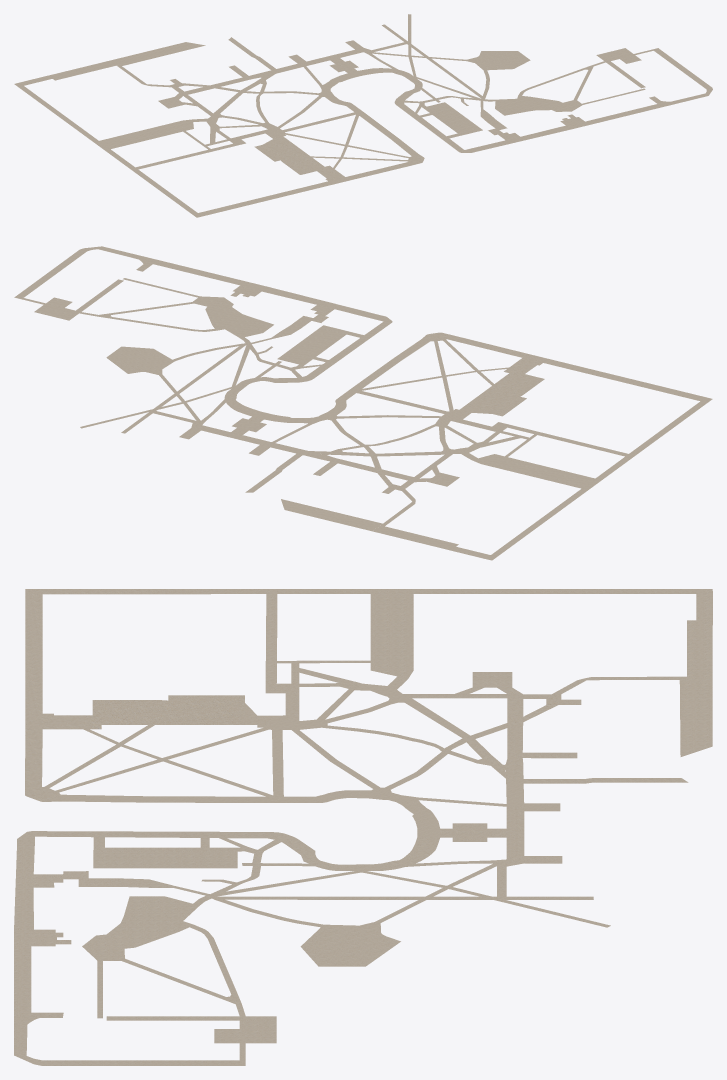
Rendered from SidewalksV7.gltf.
3 views of the same model, one above another, from view 1: azimuth 30°, elevation 25°; view 2: azimuth 150°, elevation 25°; view 3: azimuth 270°, elevation 25° (orthographic). The views are drawn at different scales.
Parts seen in each view (by area): view 1: Plane; view 2: Plane; view 3: Plane.
Part boxes in pixels (bbox=[...]): Plane: bbox=[14, 14, 712, 217]; Plane: bbox=[14, 246, 712, 560]; Plane: bbox=[14, 589, 712, 1065].
Size of the model in its own units: 352 by 1.08e-05 by 218.
Materials: 1 (1 with a texture image).
